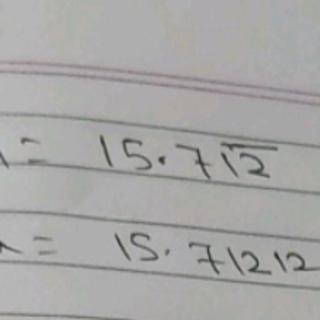.: (151, 150, 175, 169), (161, 244, 179, 260)
1: (217, 147, 240, 181), (224, 242, 244, 279), (96, 130, 112, 172), (271, 249, 288, 276)
2: (239, 150, 271, 181), (240, 249, 273, 279), (286, 250, 318, 276)
5: (129, 230, 158, 266), (121, 135, 149, 171)
7: (174, 140, 212, 185), (184, 242, 223, 280)
